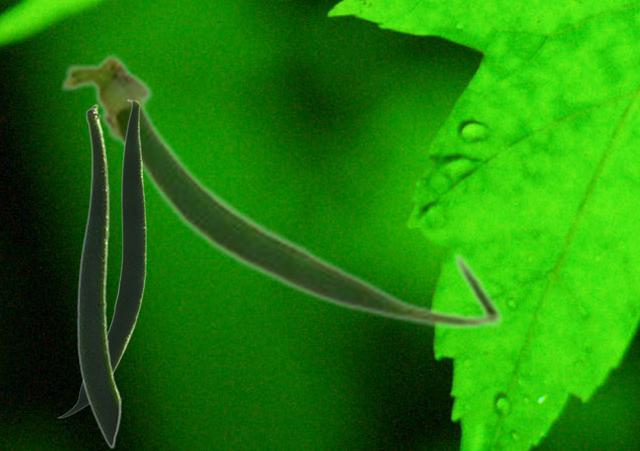french_bean: (58, 50, 504, 331), (57, 99, 145, 417), (76, 103, 121, 448)
